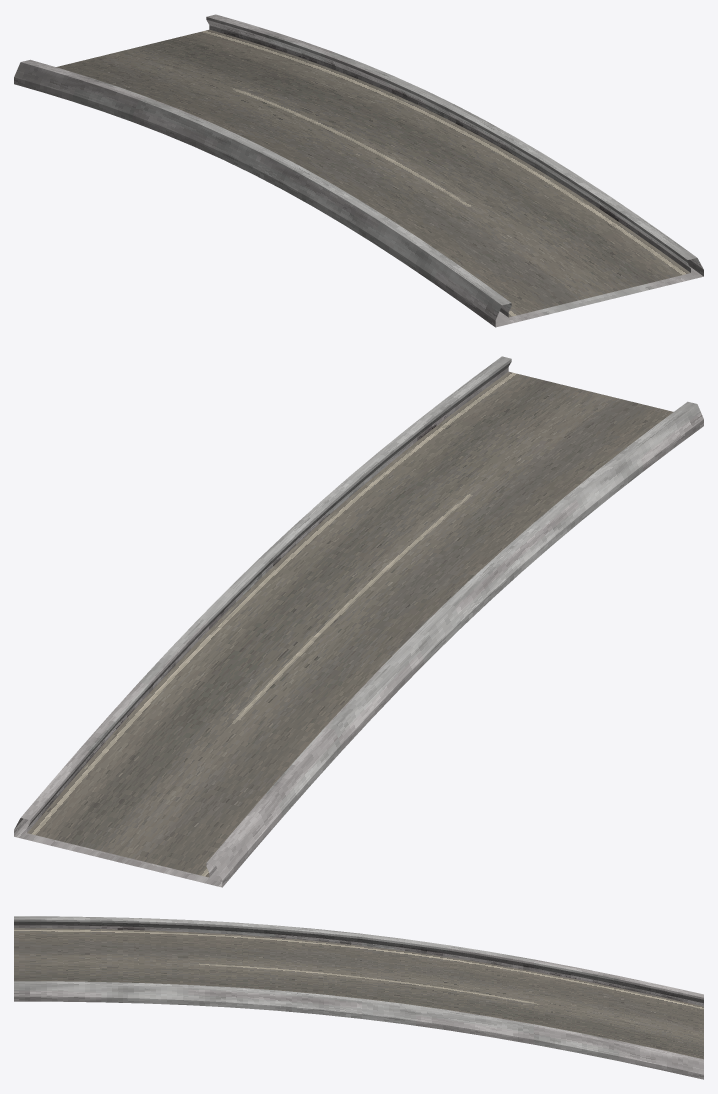
The model's file is straight4.glb.
The picture shows the model from 3 angles, top to bottom: view 1: azimuth 30°, elevation 25°; view 2: azimuth 150°, elevation 25°; view 3: azimuth 270°, elevation 25°; orthographic projection. The views are drawn at different scales.
Visible parts, largest first — view 1: road-Straight-Flat-BiSlopeDown-Down2-Center-Size4; view 2: road-Straight-Flat-BiSlopeDown-Down2-Center-Size4; view 3: road-Straight-Flat-BiSlopeDown-Down2-Center-Size4.
Boxes of the visible parts, bbox=[...] form: road-Straight-Flat-BiSlopeDown-Down2-Center-Size4: bbox=[14, 14, 703, 327]; road-Straight-Flat-BiSlopeDown-Down2-Center-Size4: bbox=[14, 356, 703, 887]; road-Straight-Flat-BiSlopeDown-Down2-Center-Size4: bbox=[14, 916, 703, 1079].
Size of the model in its own units: 1 by 0.5938 by 4.
Materials: 2 (2 with a texture image).
